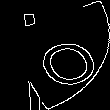O_NW: (16, 23, 94, 87)
